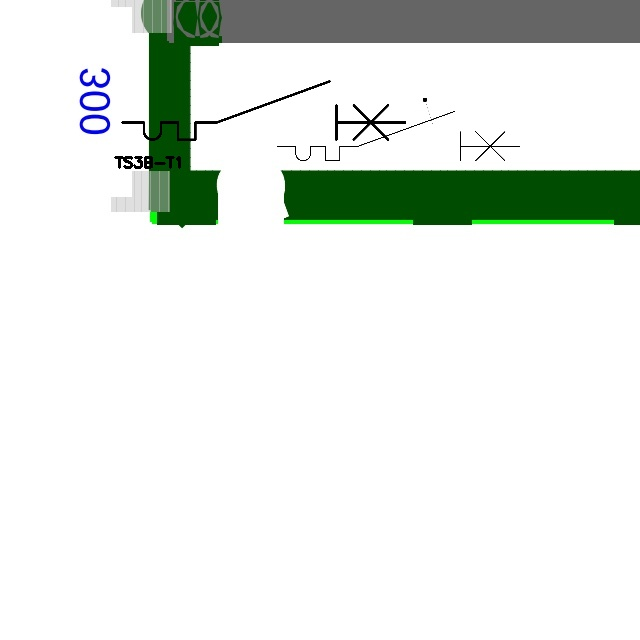interruptor_termomagnetico: (115, 74, 413, 147), (271, 105, 526, 167)
